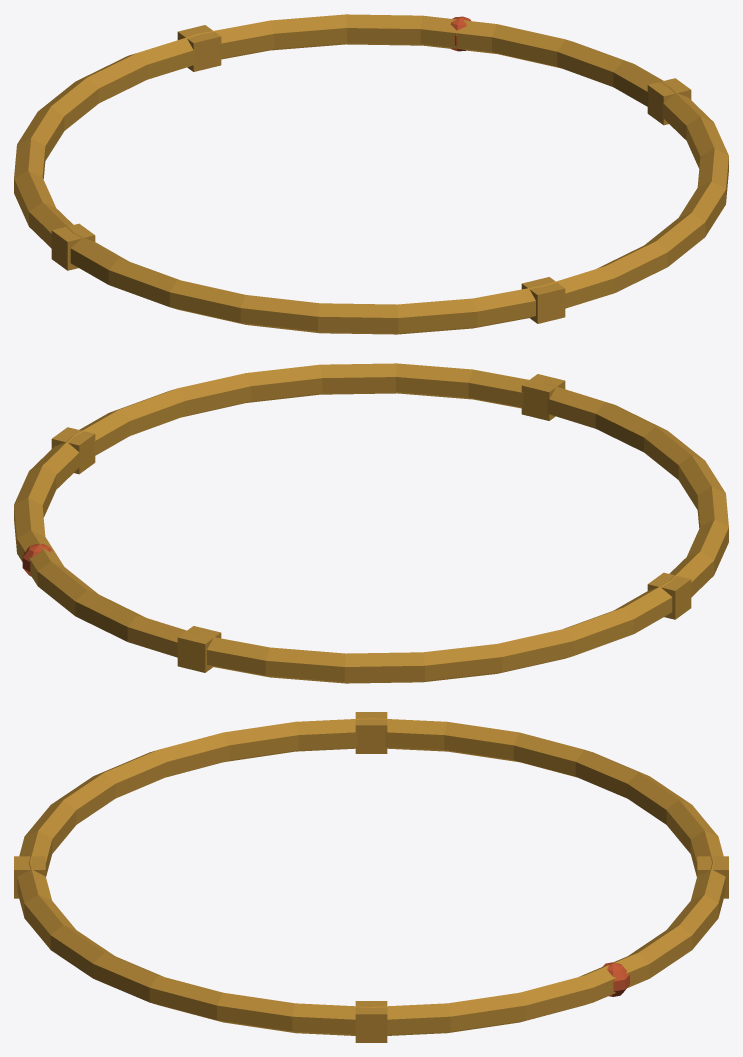
File: LairCenturyDialRing3.fbx
The picture shows the model from 3 angles, top to bottom: view 1: azimuth 30°, elevation 25°; view 2: azimuth 150°, elevation 25°; view 3: azimuth 270°, elevation 25°; orthographic projection.
Visible parts, largest first — view 1: LairCenturyDialRing3; view 2: LairCenturyDialRing3; view 3: LairCenturyDialRing3.
Boxes of the visible parts, bbox=[...] form: LairCenturyDialRing3: bbox=[14, 14, 728, 334]; LairCenturyDialRing3: bbox=[14, 363, 728, 683]; LairCenturyDialRing3: bbox=[14, 712, 728, 1042].
Bounding box in the file's own units: 113 × 5.6 × 113.
Materials: 2 (2 with a texture image).
